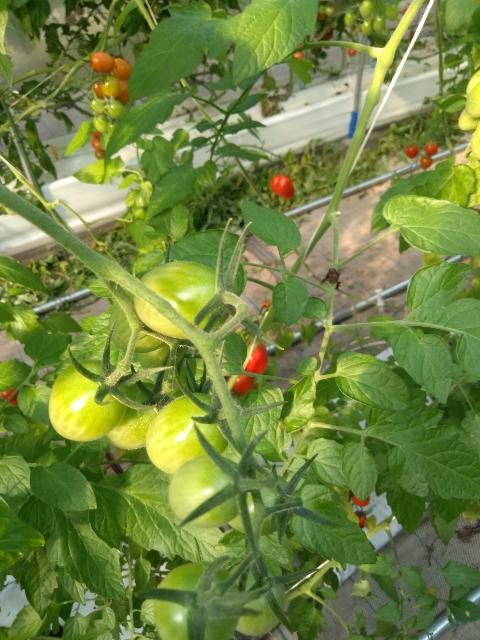l_fully_ripened: (245, 345, 267, 376), (229, 374, 253, 395)
l_green: (134, 261, 231, 339), (145, 392, 235, 474), (153, 561, 242, 640), (48, 359, 131, 442), (167, 454, 248, 528), (227, 465, 296, 537), (104, 382, 170, 450), (230, 562, 285, 636), (108, 293, 175, 353), (138, 337, 190, 374)
